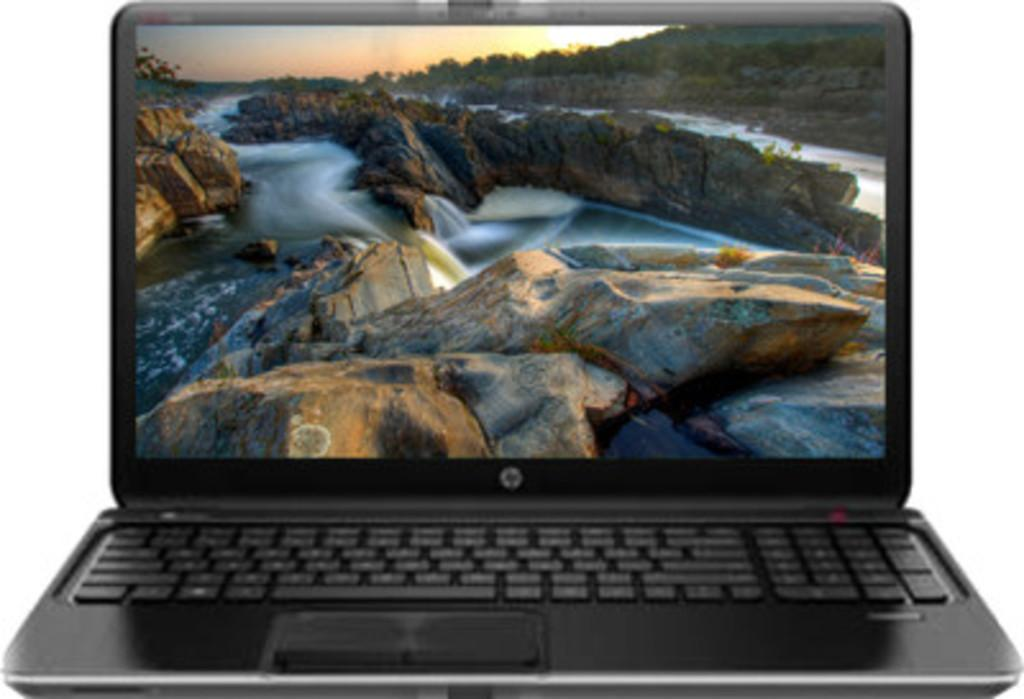Computer-keyboard: (72, 520, 952, 599)
Laptop: (5, 10, 1009, 699)
